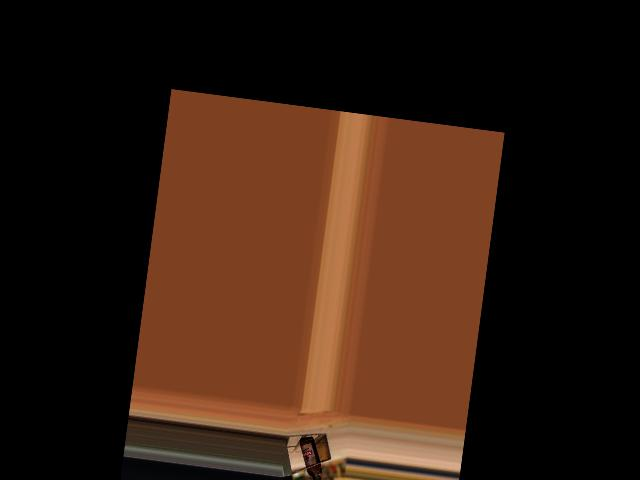beer: (291, 435, 332, 480)
